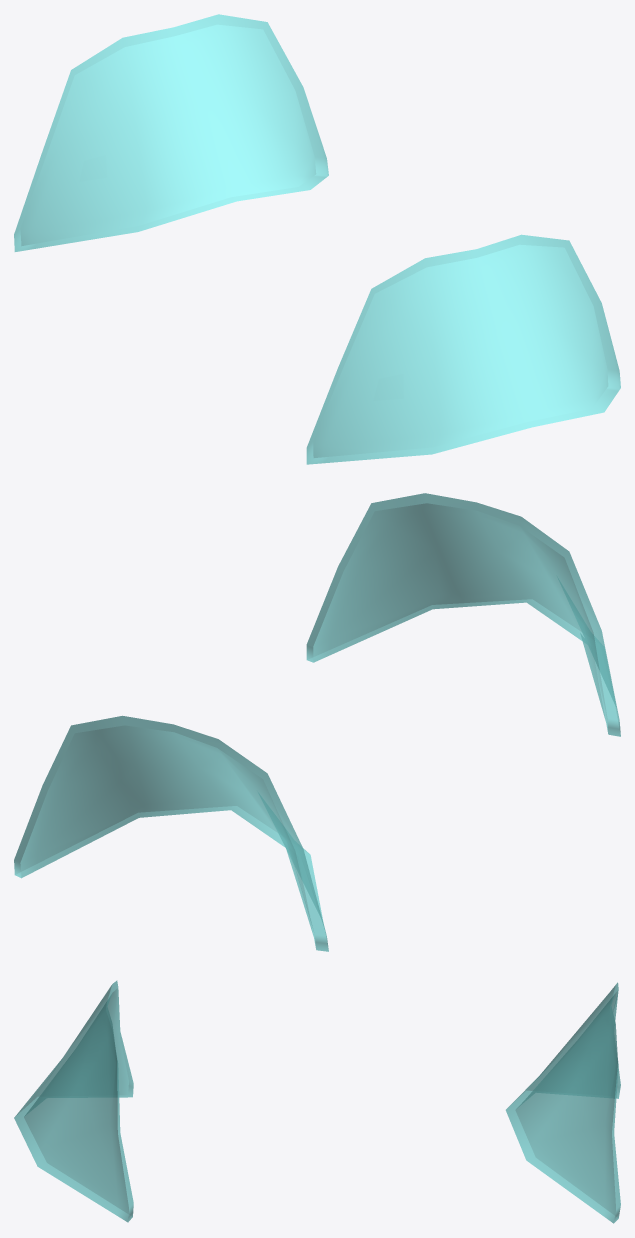
Rendered from vetri.obj.
The picture shows the model from 3 angles, top to bottom: view 1: azimuth 30°, elevation 25°; view 2: azimuth 150°, elevation 25°; view 3: azimuth 270°, elevation 25°; orthographic projection. The views are drawn at different scales.
Parts seen in each view (by area): view 1: WindshieldGlass; view 2: WindshieldGlass; view 3: WindshieldGlass.
Part boxes in pixels (x1,y1,x2,y2): WindshieldGlass: [14, 14, 620, 464]; WindshieldGlass: [14, 493, 620, 951]; WindshieldGlass: [14, 980, 620, 1223].
Bounding box in the file's own units: 0.3959 × 0.2264 × 0.7962.
